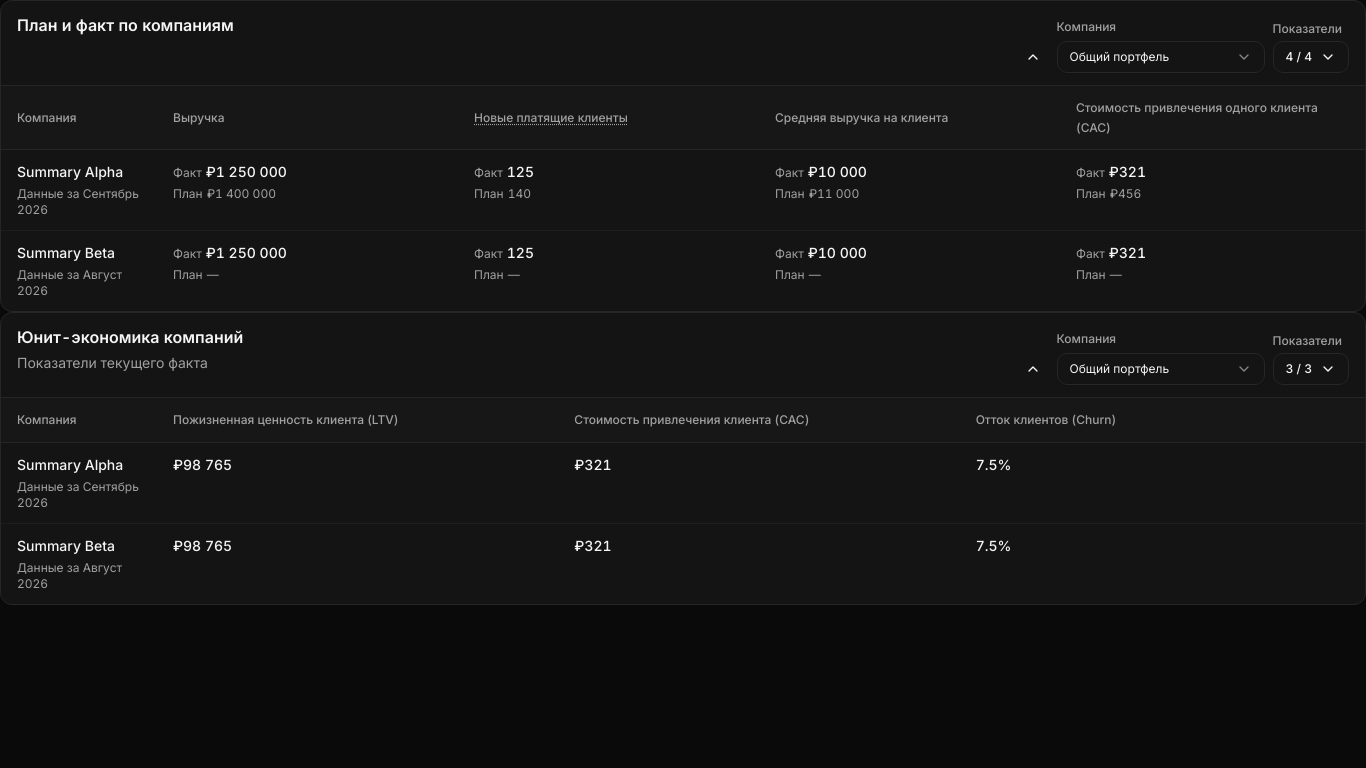
Test case: Summary shared behaviour › collapses each table filter toolbar independently and preserves its selections
The width and height of the screenshot is (1366, 768).
Click the dropdown named "Компания": (1160, 57) x1=1056 y1=41 x2=1264 y2=73
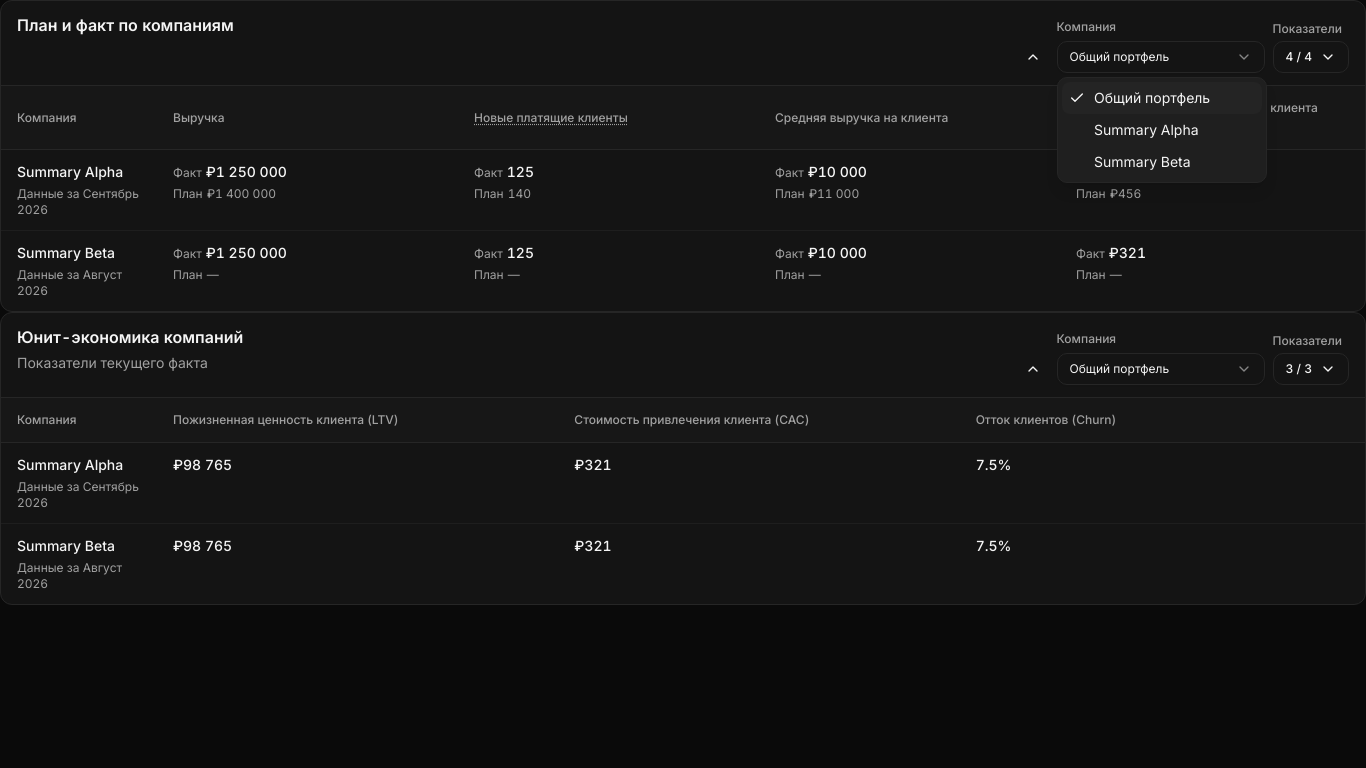
Click the option "Summary Beta": (1142, 162) x1=1094 y1=153 x2=1191 y2=170
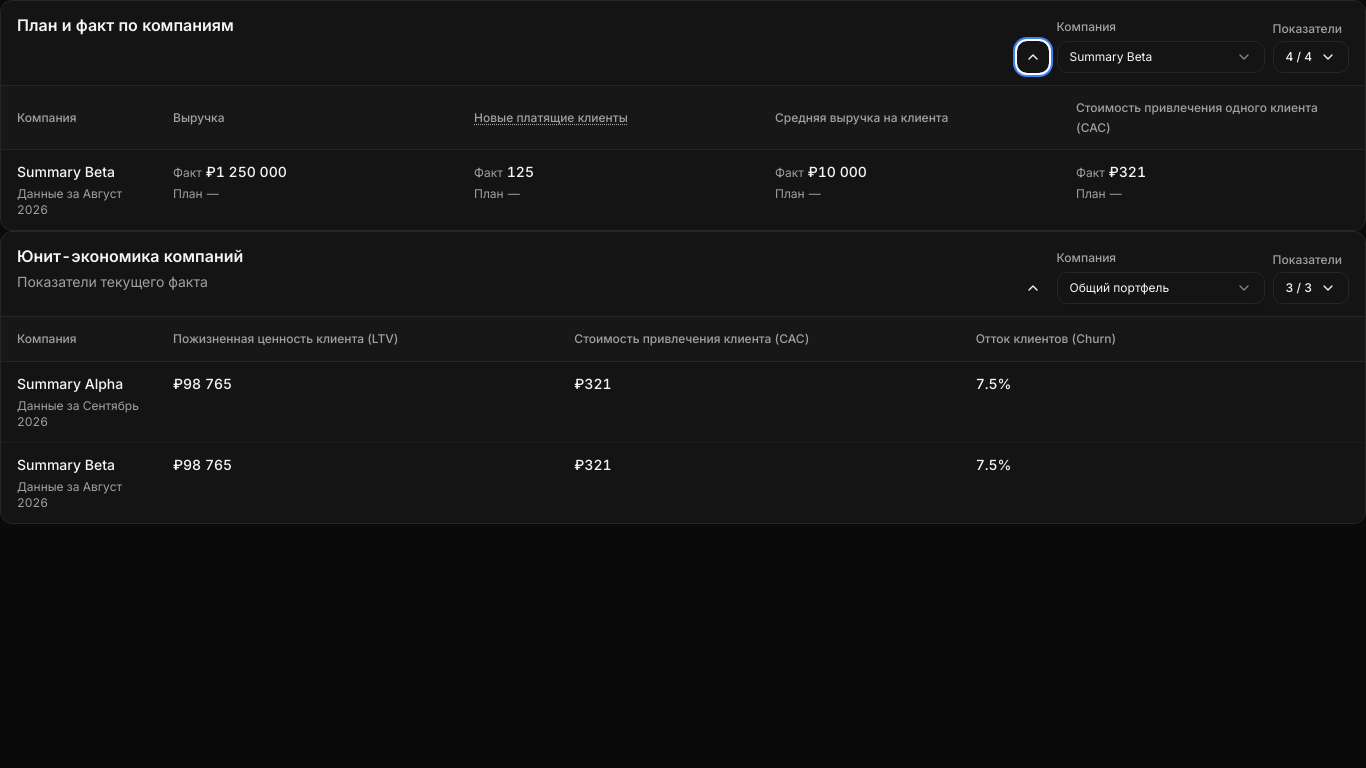
Type keys " "
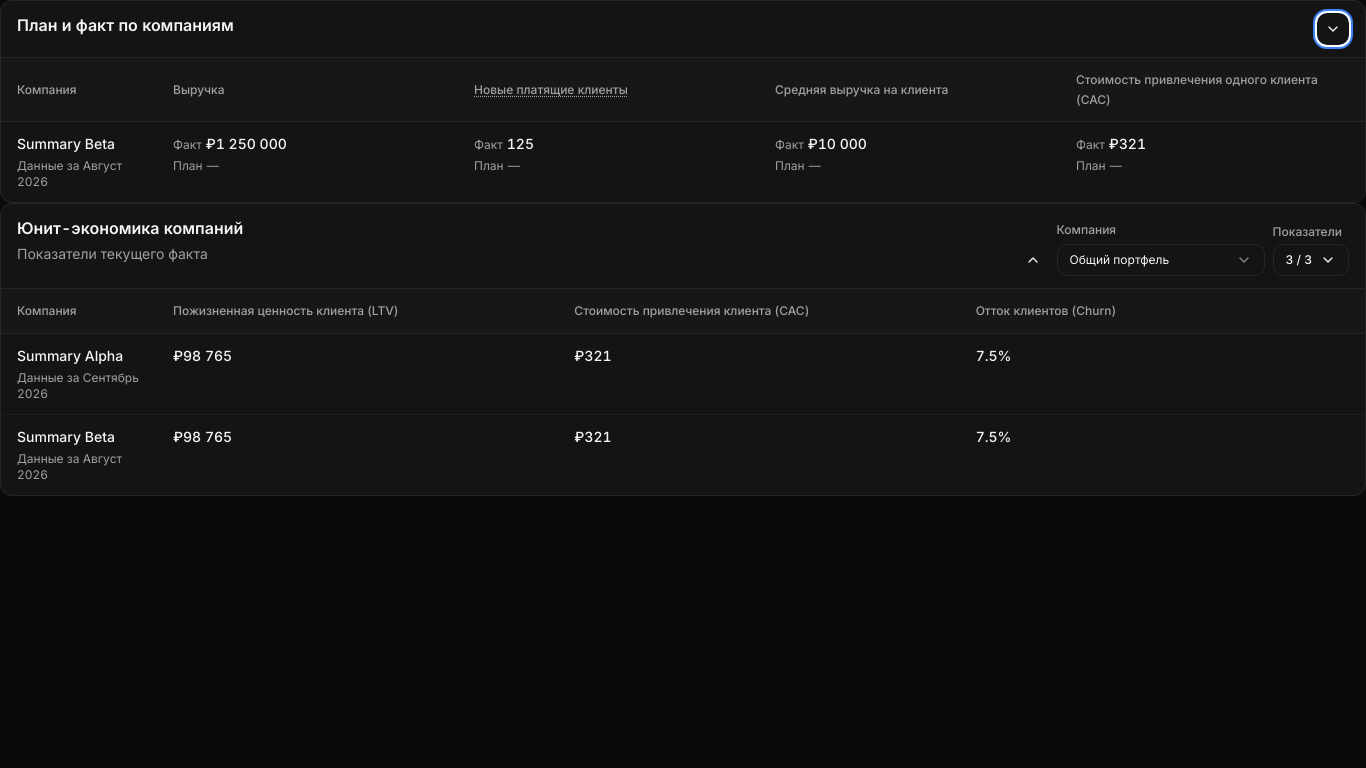
expect the dropdown reads "Общий портфель": met, box x1=1056 y1=244 x2=1264 y2=276
expect the button named "Показать фильтры таблицы" is collapsed: met, box x1=1317 y1=13 x2=1349 y2=45
Press Enter
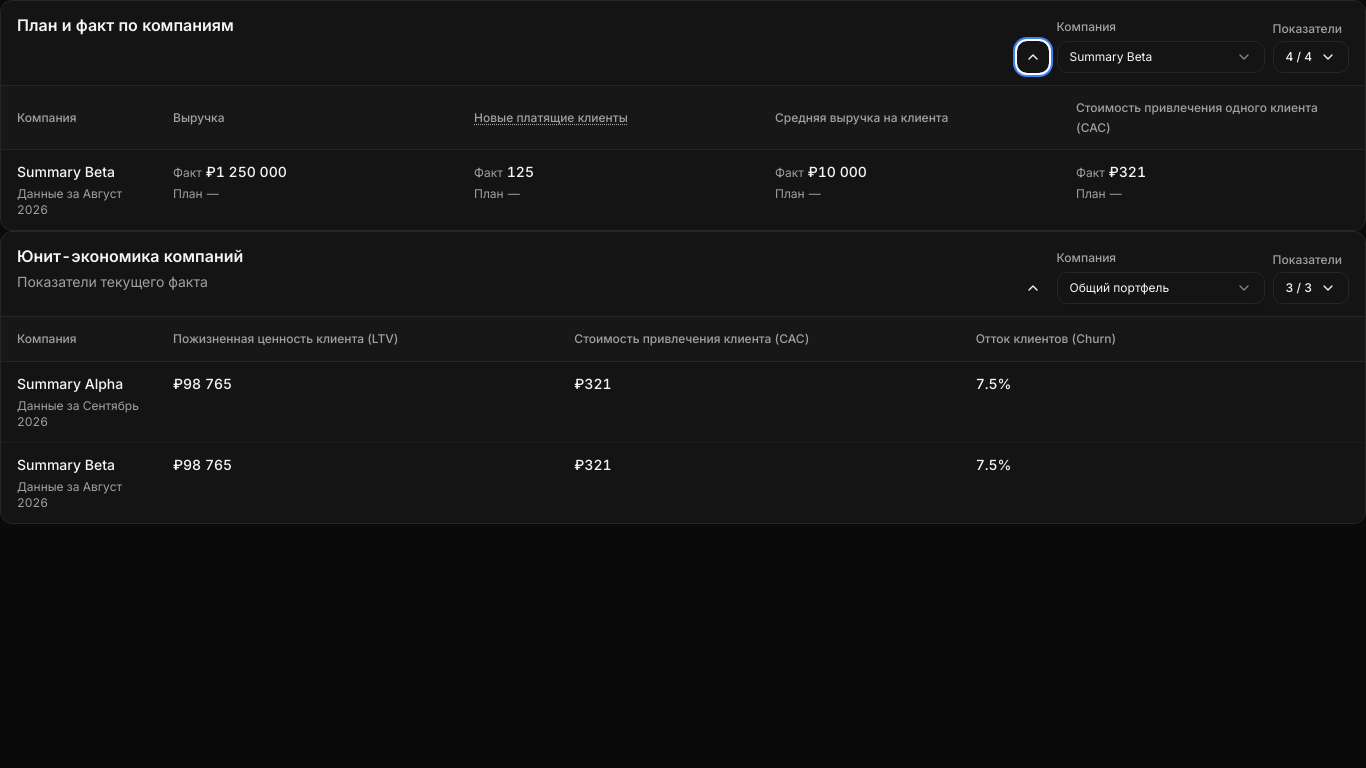
expect the dropdown labelled "Summary Beta" is shown: met, box x1=1056 y1=41 x2=1264 y2=73
